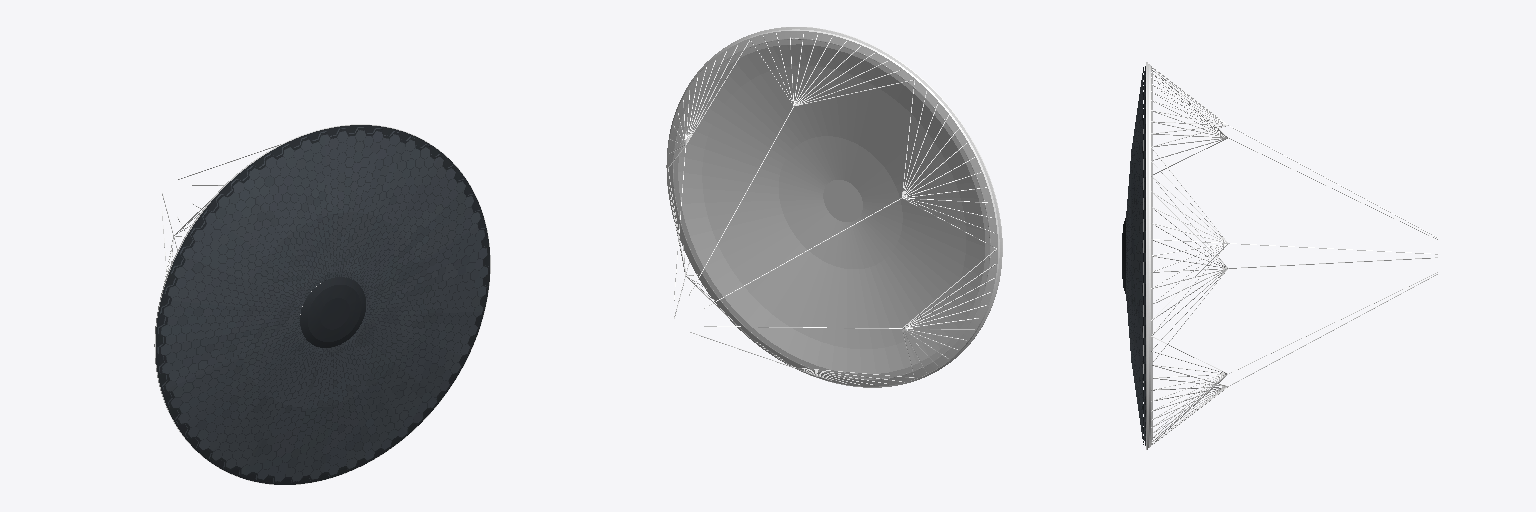
3 views of the same model, side by side, from view 1: azimuth 30°, elevation 25°; view 2: azimuth 150°, elevation 25°; view 3: azimuth 270°, elevation 25° (orthographic).
Parts seen in each view (by area): view 1: shield_high.obj; view 2: shield_high.obj; view 3: shield_high.obj.
Part boxes in pixels (x1,y1,x2,y2): shield_high.obj: (154, 124, 490, 484); shield_high.obj: (666, 27, 1002, 387); shield_high.obj: (1122, 62, 1437, 449).
Size of the model in its own units: 547 by 547 by 446.
Materials: 3 (1 with a texture image).